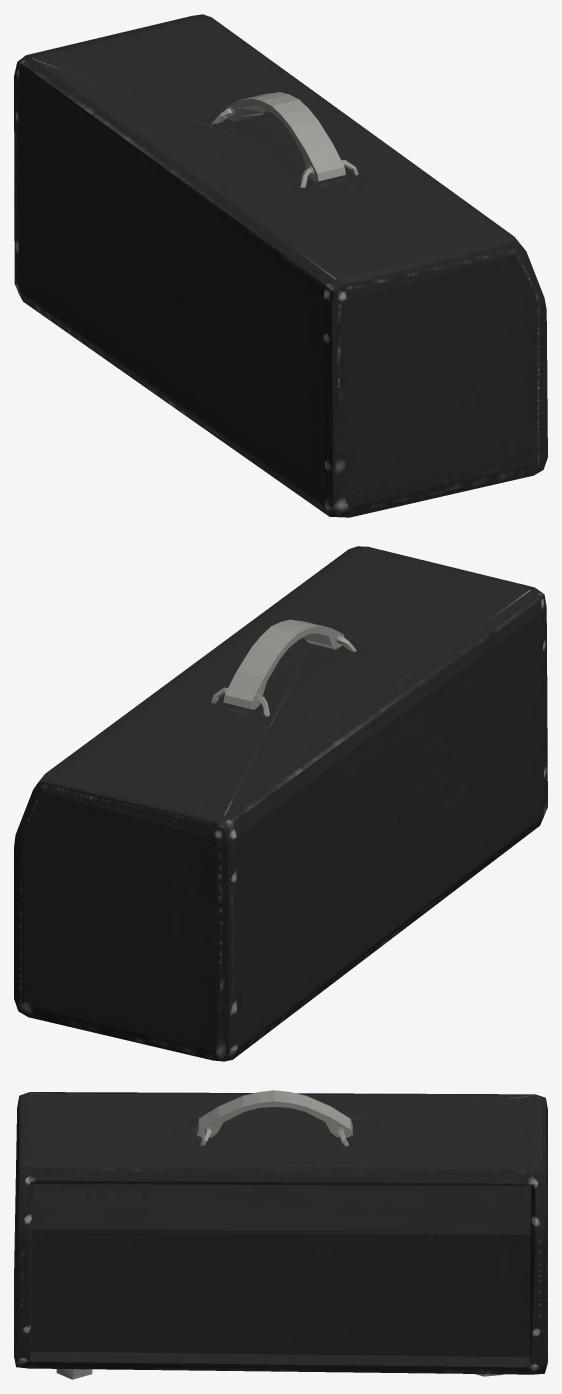
The model's file is amp.obj.
The picture shows the model from 3 angles, top to bottom: view 1: azimuth 30°, elevation 25°; view 2: azimuth 150°, elevation 25°; view 3: azimuth 270°, elevation 25°; orthographic projection. The views are drawn at different scales.
Parts seen in each view (by area): view 1: tripo_node_183c5738-5544-4cfd-8be6-79ffc86a577c; view 2: tripo_node_183c5738-5544-4cfd-8be6-79ffc86a577c; view 3: tripo_node_183c5738-5544-4cfd-8be6-79ffc86a577c.
Boxes of the visible parts, bbox=[...] form: tripo_node_183c5738-5544-4cfd-8be6-79ffc86a577c: bbox=[14, 14, 547, 517]; tripo_node_183c5738-5544-4cfd-8be6-79ffc86a577c: bbox=[14, 546, 547, 1061]; tripo_node_183c5738-5544-4cfd-8be6-79ffc86a577c: bbox=[14, 1090, 547, 1379].
Size of the model in its own units: 0.3887 by 0.5098 by 0.998.
Materials: 1 (1 with a texture image).
